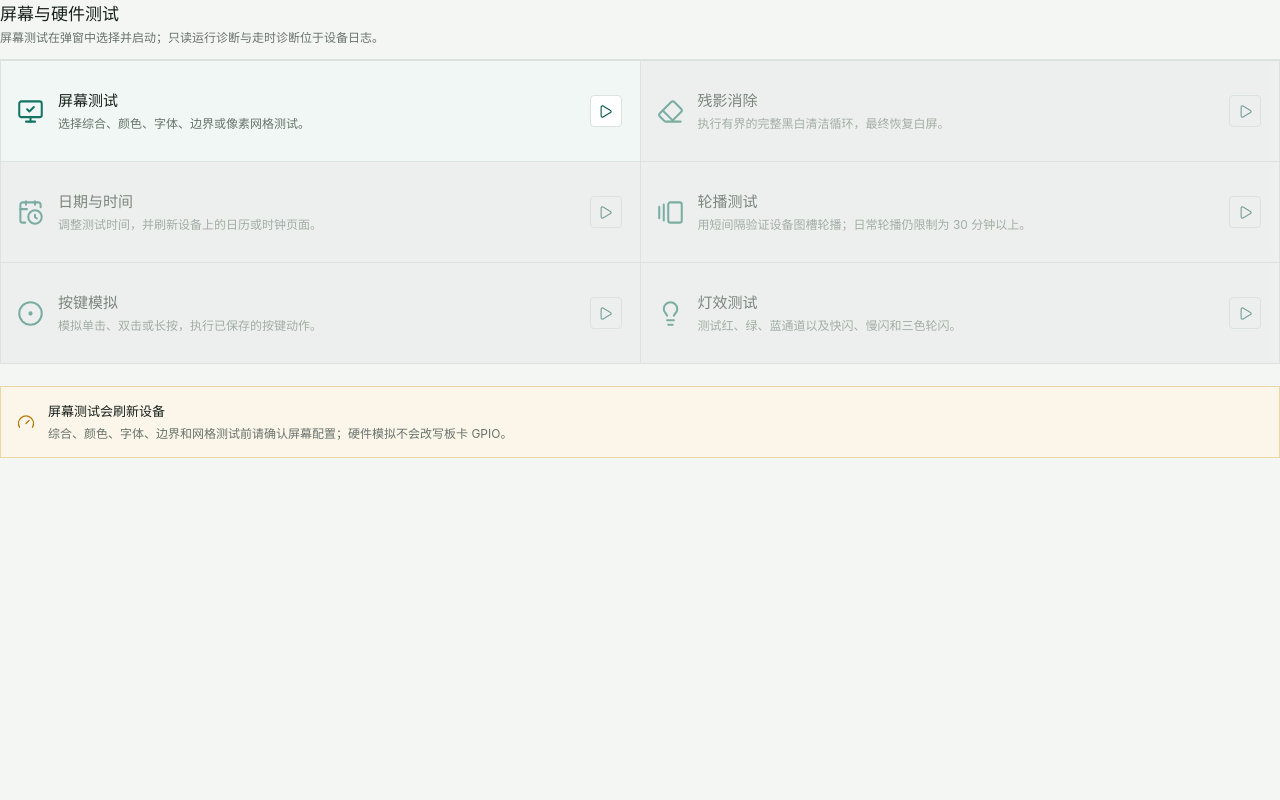
sends only the selected grid after explicit start and prevents duplicate submissions
Click the button with class "test-card" showing "屏幕测试 选择综合、颜色、字体、边界或像素网格测试。": [88, 100] box [1,61,640,161]
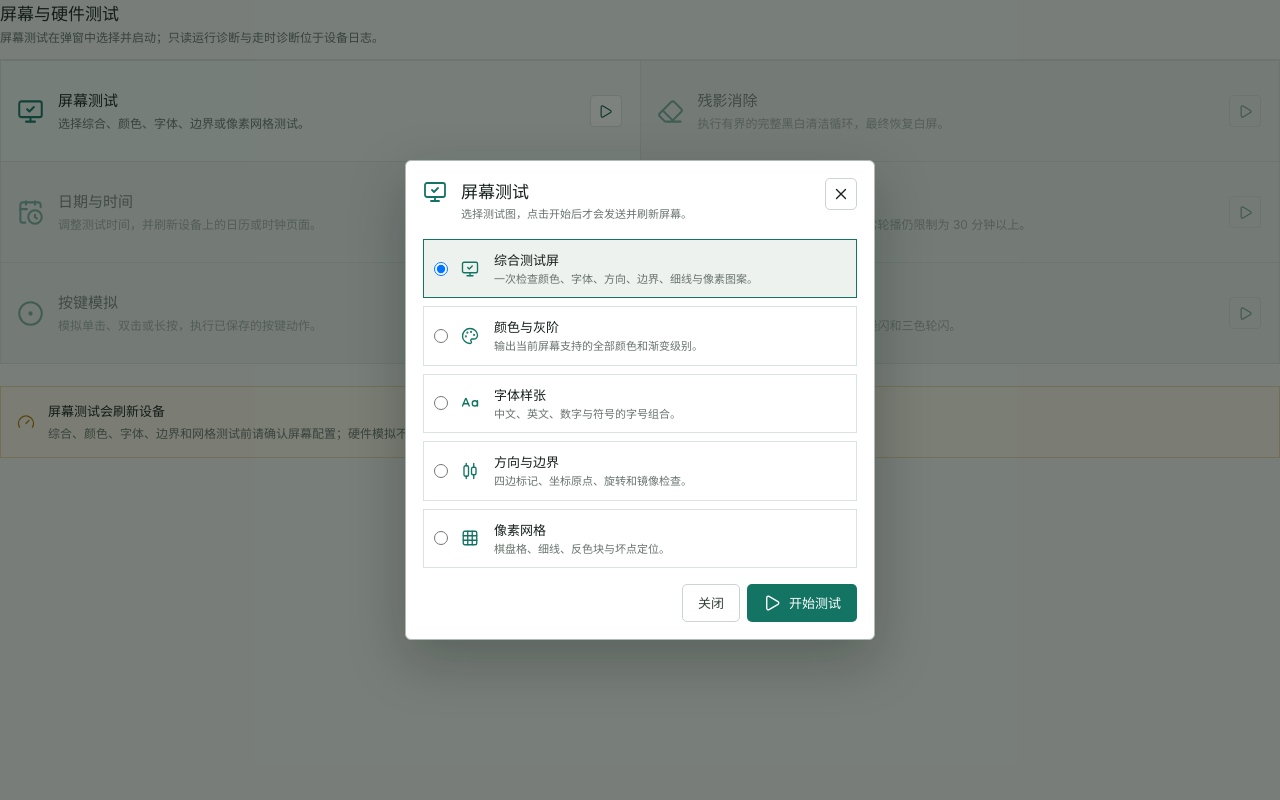
Click the radio button labelled "像素网格 棋盘格、细线、反色块与坏点定位。": [441, 538] box [434,531,448,545]
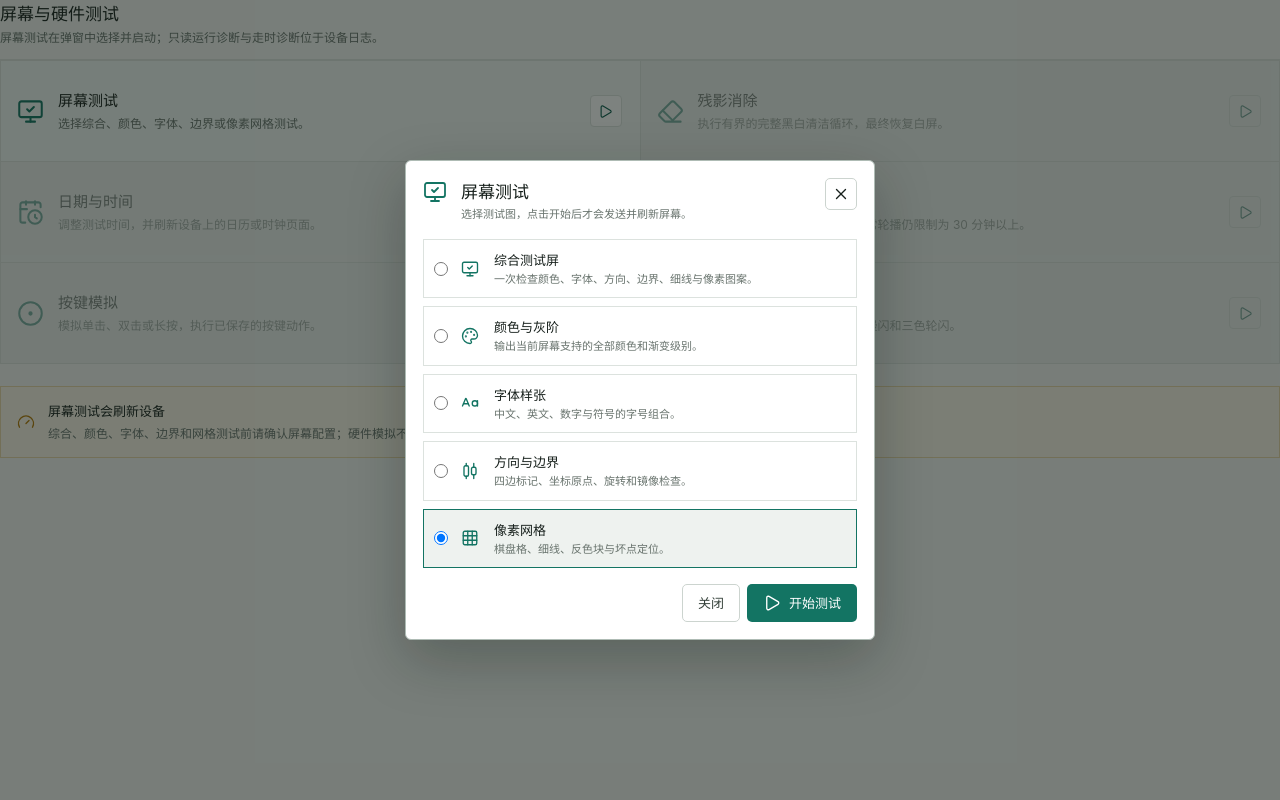
Click the button "开始测试": [802, 603] box [747,584,857,622]
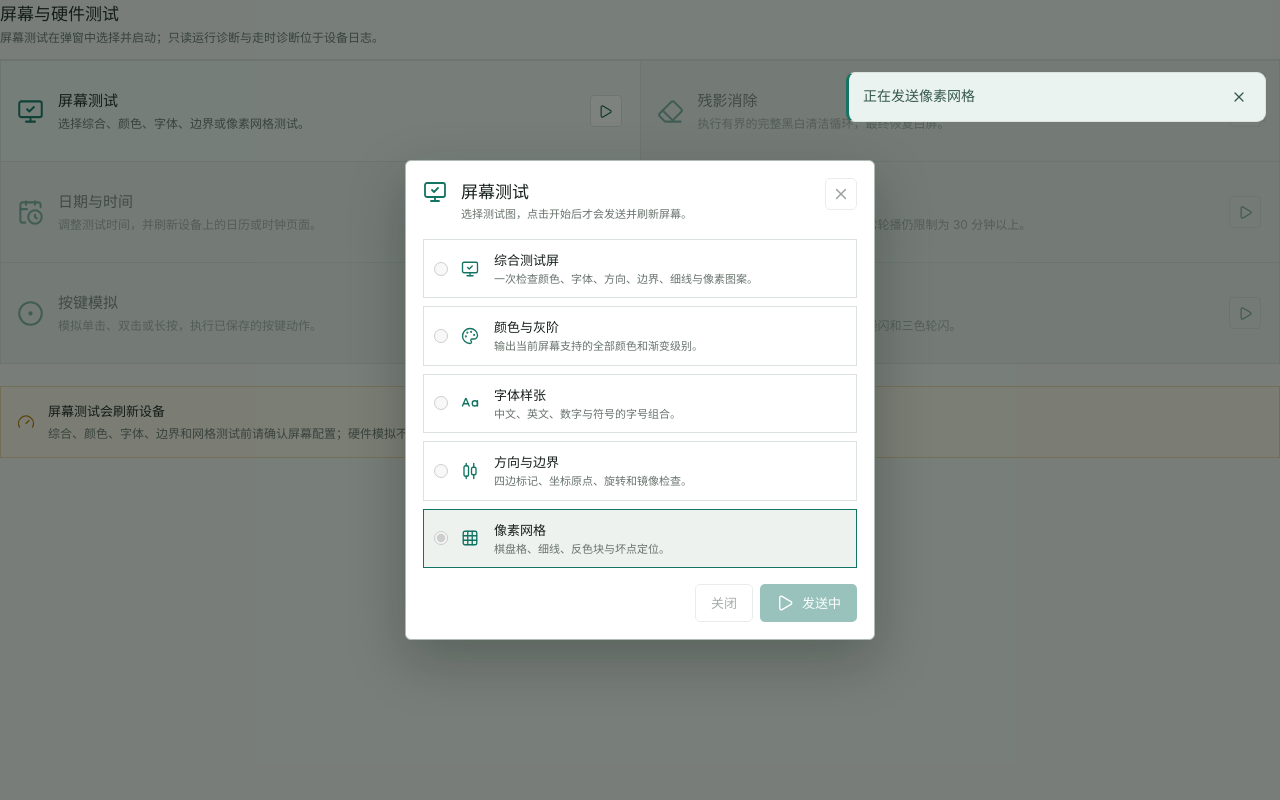
Expected: the button "发送中" is disabled
Click the button "发送中": [808, 603] box [760,584,857,622]
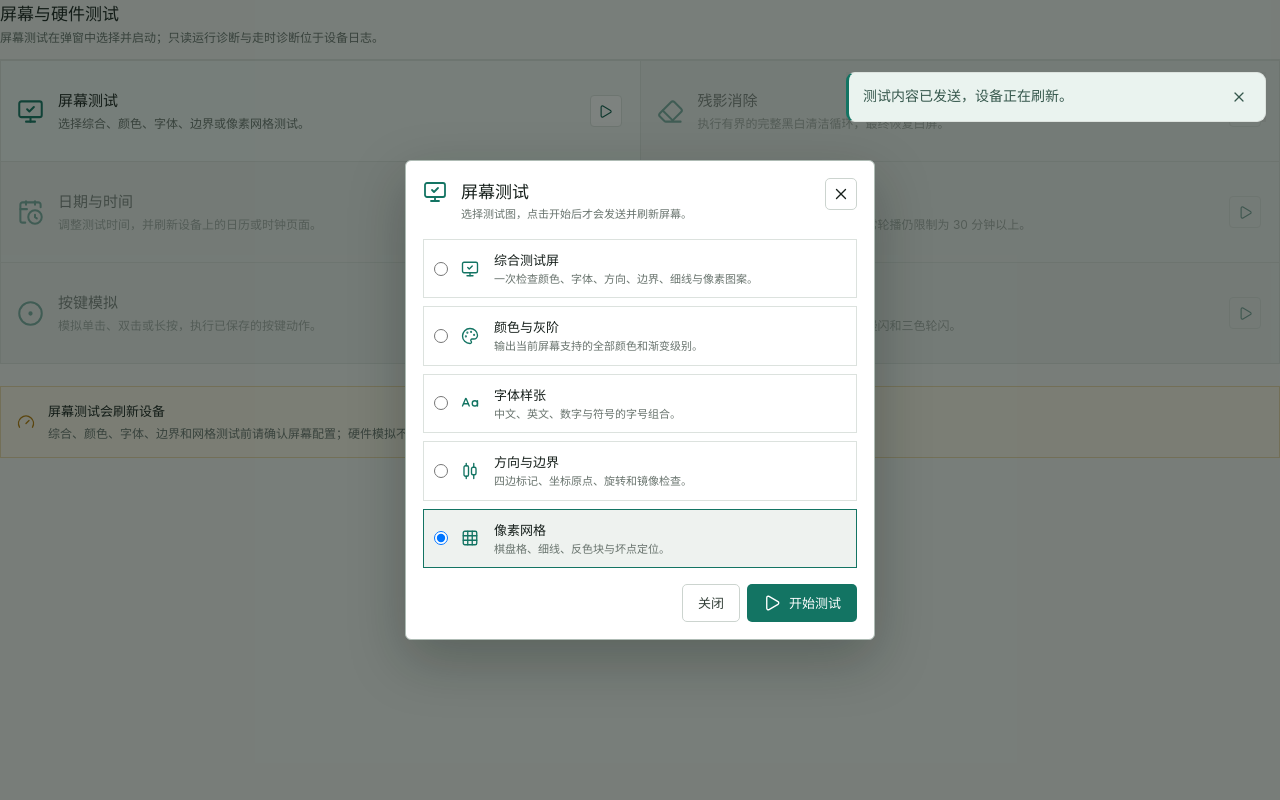
Expected: the button "开始测试" is enabled, [747,584,857,622]
